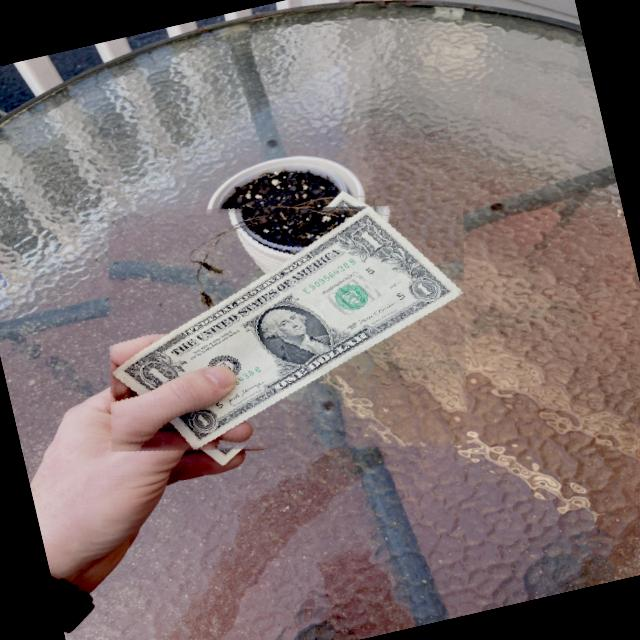one: (104, 186, 465, 467)
